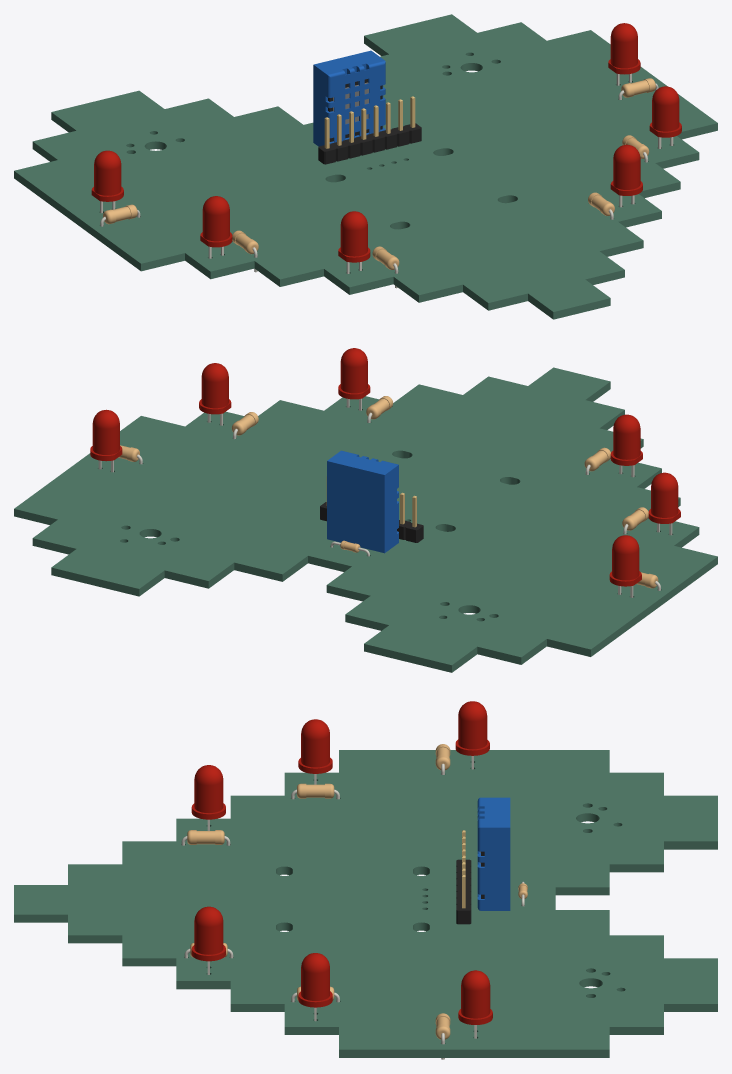
File: Starbie begin.glb
The picture shows the model from 3 angles, top to bottom: view 1: azimuth 30°, elevation 25°; view 2: azimuth 150°, elevation 25°; view 3: azimuth 270°, elevation 25°; orthographic projection. The views are drawn at different scales.
Visible parts, largest first — view 1: =>[0:1:1:12], =>[0:1:1:3] (×6), =>[0:1:1:9], =>[0:1:1:11], =>[0:1:1:7] (×2); view 2: =>[0:1:1:12], =>[0:1:1:3] (×6), =>[0:1:1:9], =>[0:1:1:11]; view 3: =>[0:1:1:12], =>[0:1:1:3] (×6), =>[0:1:1:9], =>[0:1:1:7] (×2), =>[0:1:1:11].
Part boxes in pixels (x1,y1,x2,y2): =>[0:1:1:12]: (14,14,717,319); =>[0:1:1:3] (×6): (91,23,681,273); =>[0:1:1:9]: (313,50,385,146); =>[0:1:1:11]: (318,96,421,164); =>[0:1:1:7] (×2): (100,78,658,226); =>[0:1:1:12]: (14,367,717,672); =>[0:1:1:3] (×6): (90,348,680,597); =>[0:1:1:9]: (327,450,398,572); =>[0:1:1:11]: (320,476,423,542); =>[0:1:1:12]: (14,750,717,1057); =>[0:1:1:3] (×6): (191,701,492,1038); =>[0:1:1:9]: (477,797,510,910); =>[0:1:1:7] (×2): (181,783,339,845); =>[0:1:1:11]: (456,830,471,924).
Size of the model in its own units: 0.1197 by 0.0235 by 0.1188.
